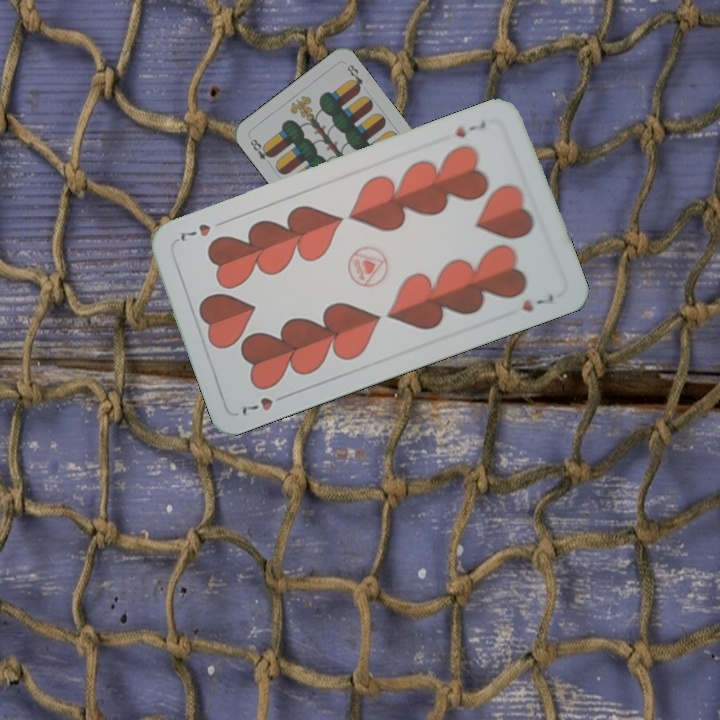E8: (246, 135, 275, 169)
H7: (237, 390, 292, 419), (452, 117, 488, 141)
